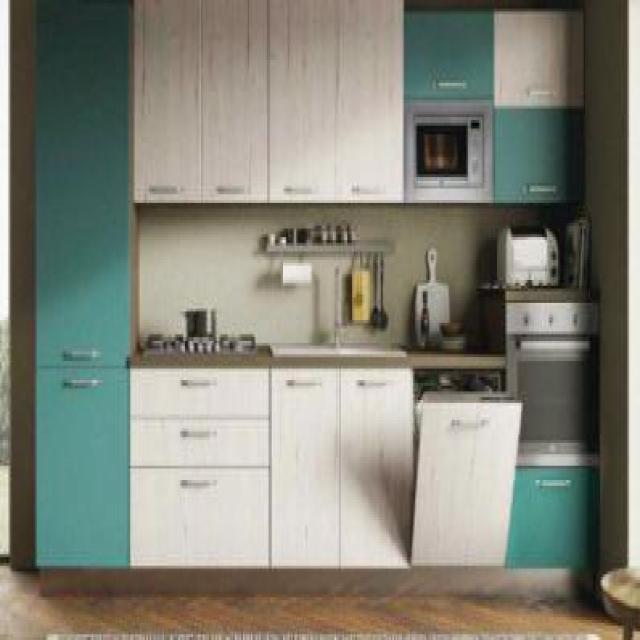dishwasher: (407, 363, 522, 563)
